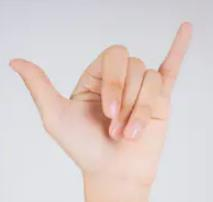clockwise: (8, 21, 194, 178)
